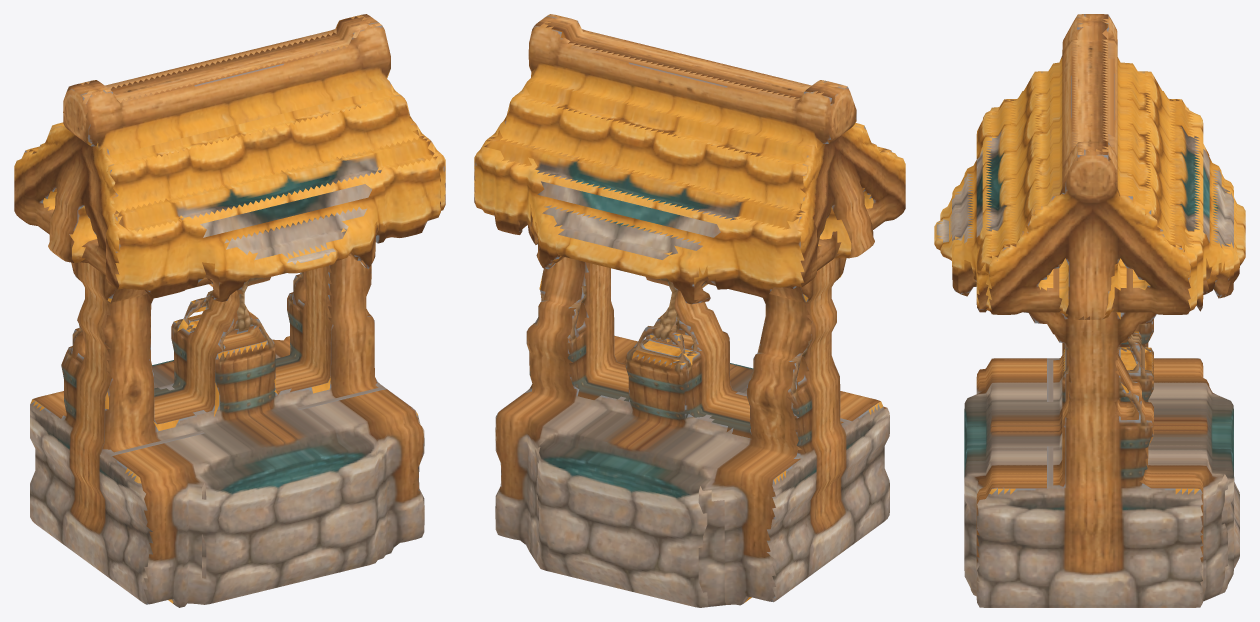
The model's file is well.glb.
3 renders of one model, left to right at view 1: azimuth 30°, elevation 25°; view 2: azimuth 150°, elevation 25°; view 3: azimuth 270°, elevation 25°, orthographic. The views are drawn at different scales.
Size of the model in its own units: 0.7424 by 1 by 0.5871.
1 material, 1 textured.
